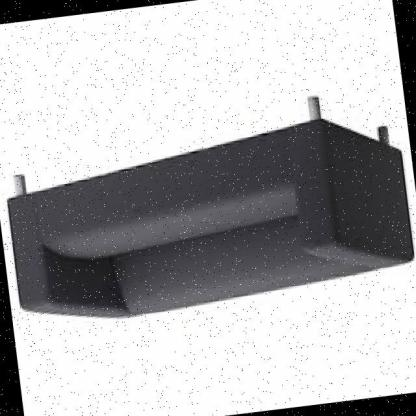Sofa: (0, 74, 416, 348)
